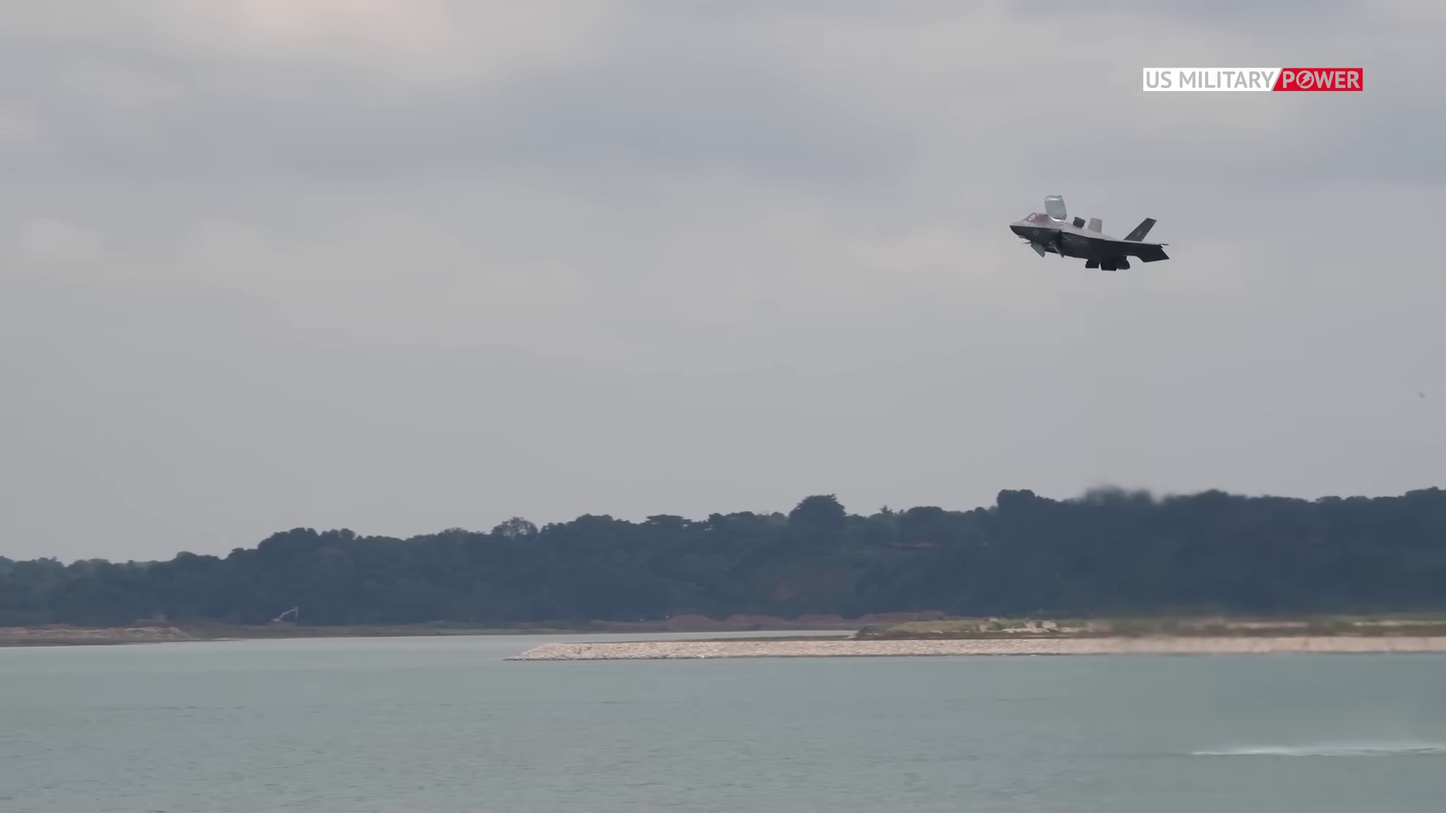F35: (1005, 192, 1175, 276)
